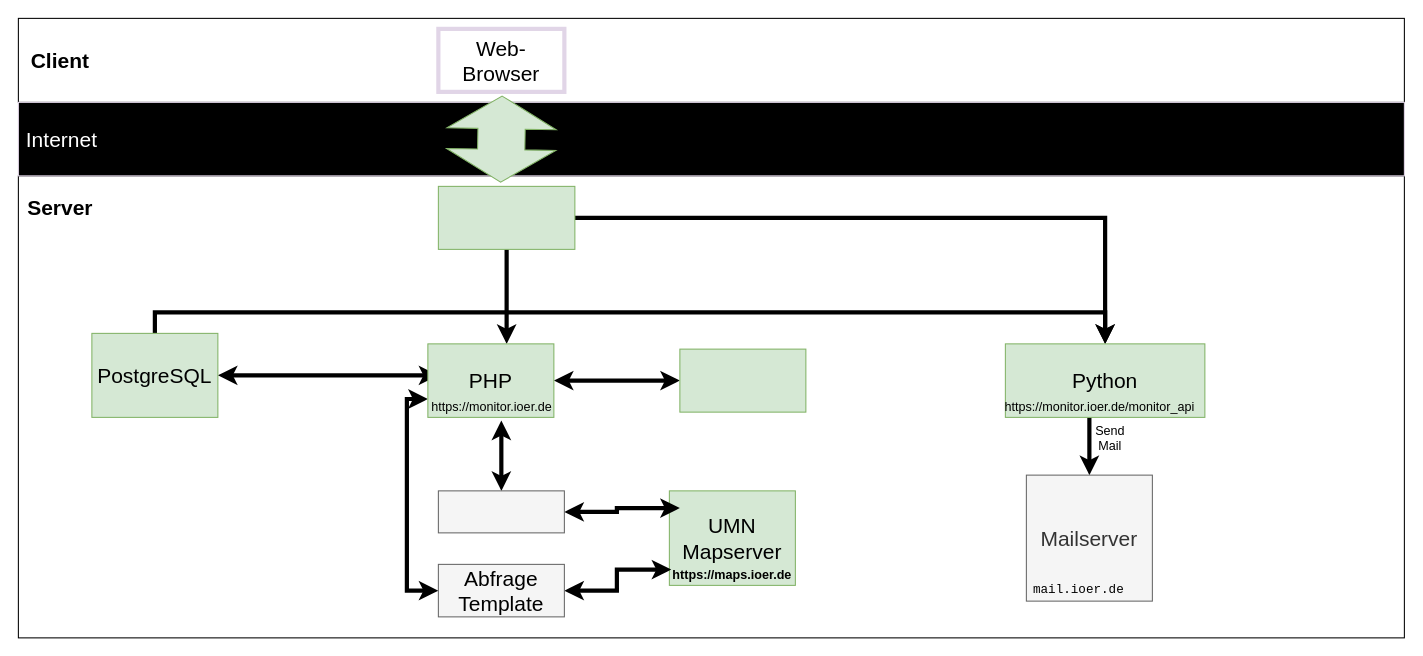
Image size: 1423x656. Some labels were removed from this diagram. The shapes that lost their labels are listed below. From the top down, each one's centre as x and y in pixels, then its label:
At point 501,138: "HTTP".
At point 506,217: "Webserver Apache".
At point 742,380: "MySQL".
At point 500,511: "Mapfile".
